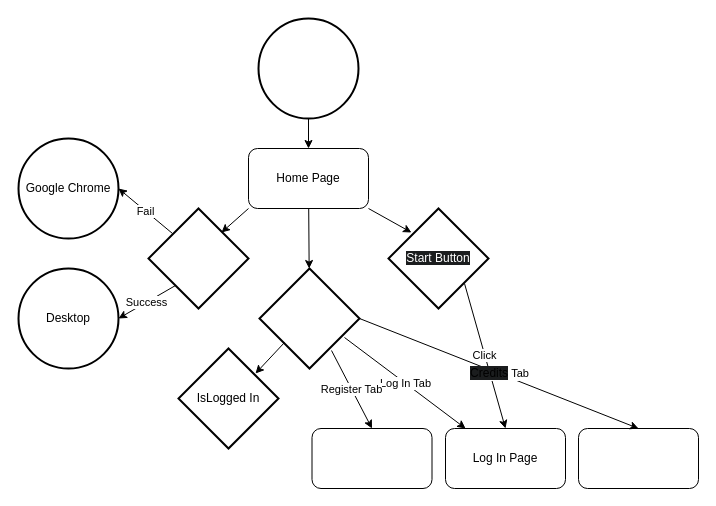
The diagram is 716 pixels wide and 506 high, and some of its shapes have lost their labels. Here are the shapes that lost their labels. From the top down, the centre of each, then its label:
At pixel 308 68: "App launch:".
At pixel 198 258: "Exit Button".
At pixel 371 458: "Register Page".
At pixel 638 458: "Credits Page".
